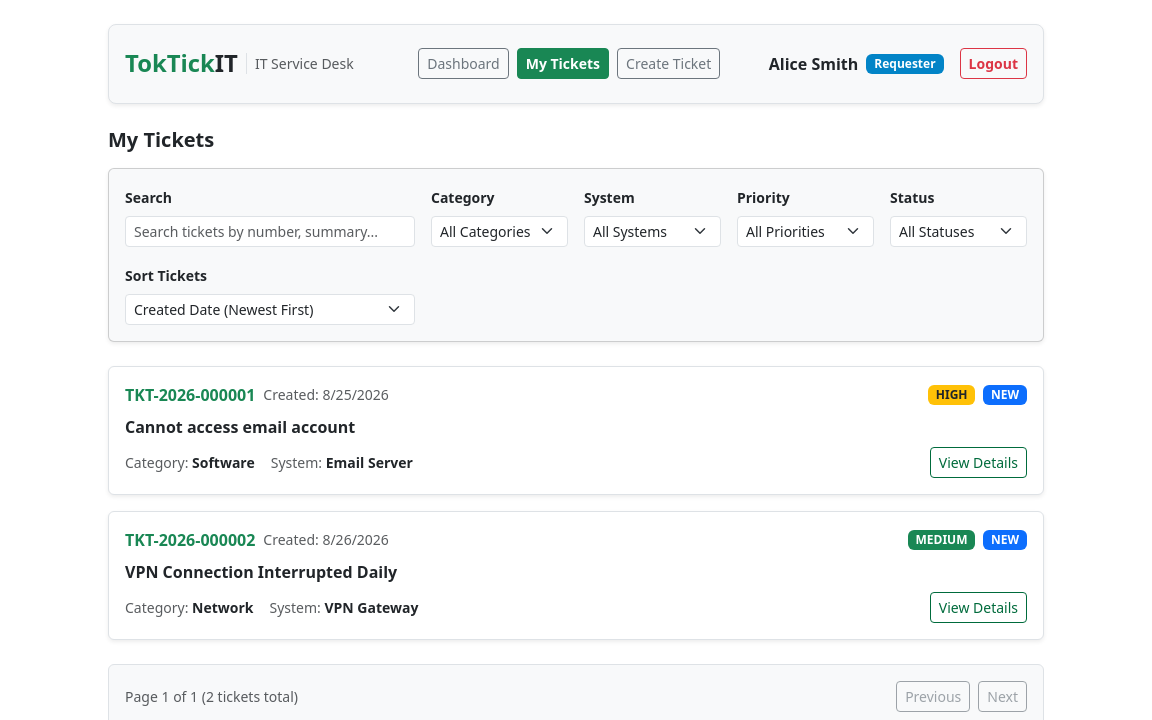
it: Issue #29: My Tickets & Ticket Detail Requester UI Suite › 5. Ticket Detail Screen & Ownership Verification (FR-06, BR-05, AC-03, AC-06) › displays active attachments with download controls and soft-removed attachments with disabled controls and removal reason
This screenshot has width=1152, height=720.
Check: the button "My Tickets" is shown, box 517,48 -> 609,79
Click the button "View Details" in the row of "Email Server".
click(978, 462)  # box 930,447 -> 1027,478
(page scrolled)
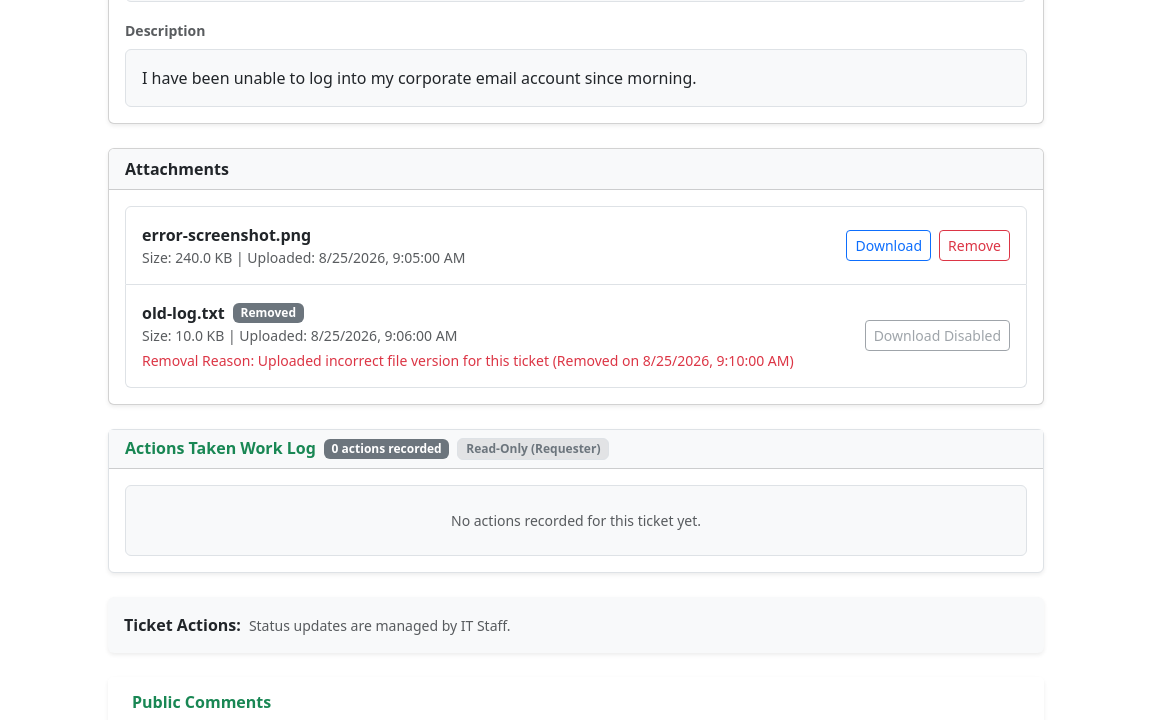
Check: the text "error-screenshot.png" is shown, box 142,223 -> 311,247
Check: the button "Download" is shown, box 846,230 -> 931,261
Check: the text "old-log.txt" is shown, box 142,301 -> 225,325
